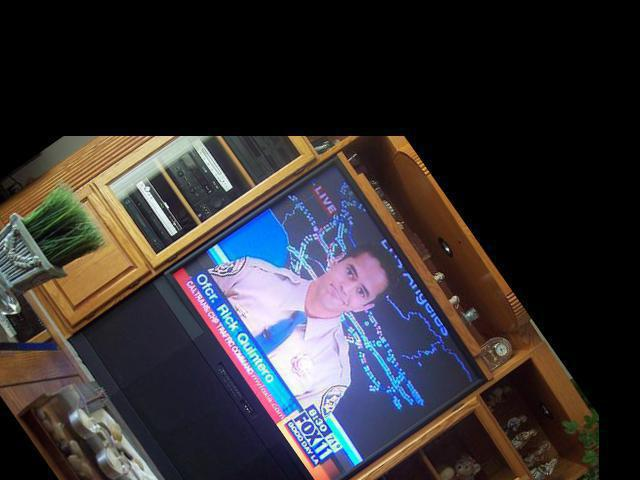Matera: (0, 179, 115, 313)
